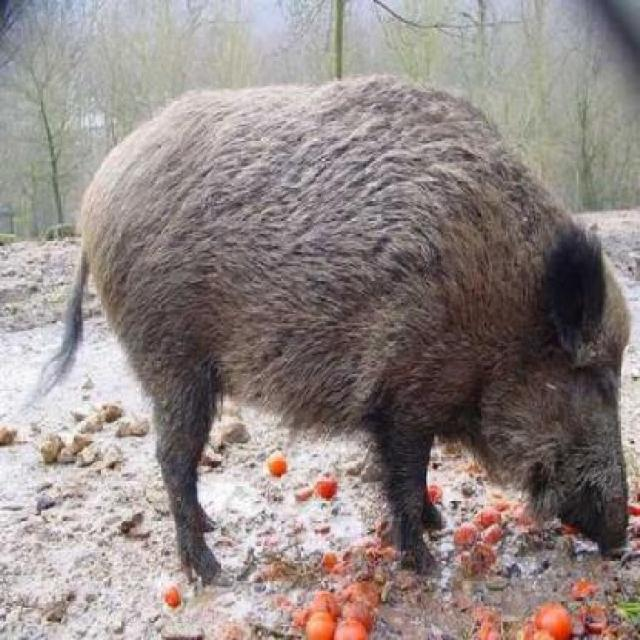WildBoar: (54, 60, 638, 562)
